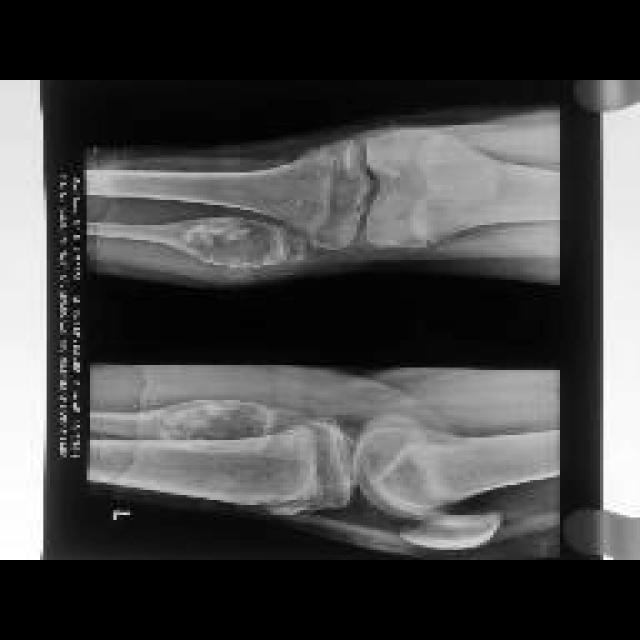bone-cancer: (155, 397, 280, 455), (176, 216, 293, 267)
